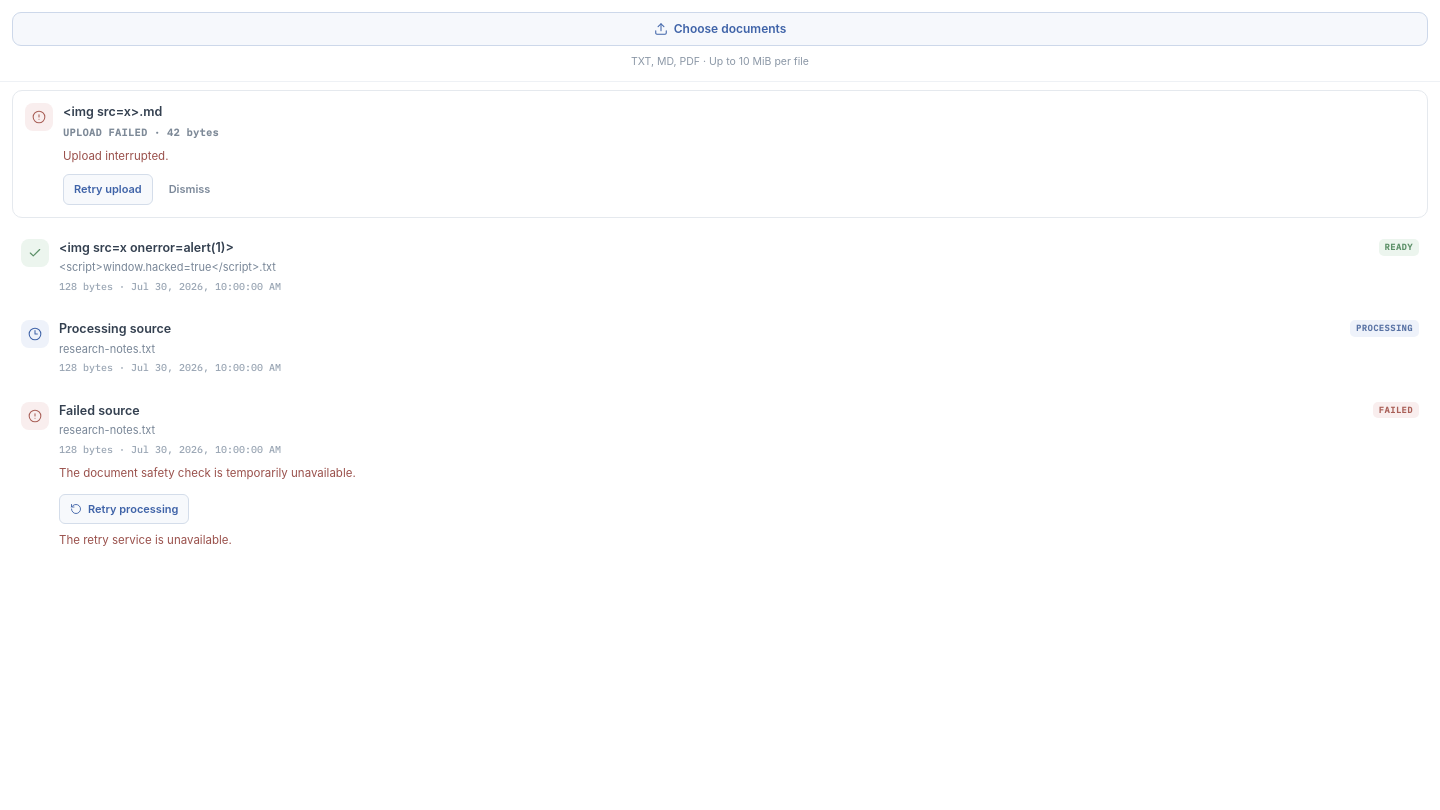
DocumentsPanel › renders hostile names and processed text inertly while preserving accessible status
Expected: the list named "Project documents" is shown, left=8, top=226, right=1432, bottom=562
Expected: the text "<img src=x onerror=alert(1)>" is shown, left=59, top=240, right=234, bottom=255
Click the button with aria-label "Inspect document: <img src=x onerror=alert(1)>": [146, 247] box left=9, top=227, right=1431, bottom=306
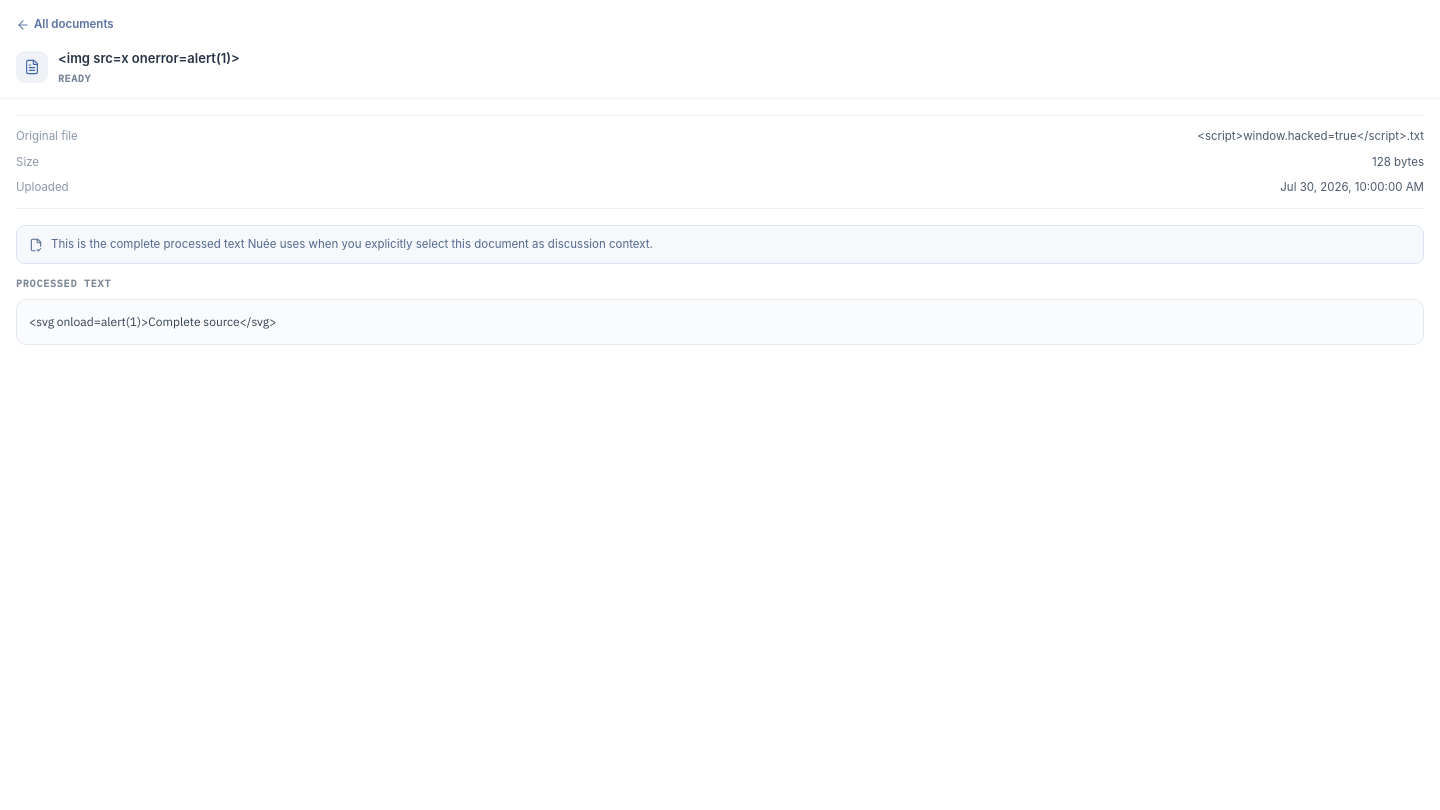
Expected: the text "<svg onload=alert(1)>Complete source</svg>" is shown, left=16, top=299, right=1424, bottom=345
Expected: the text "complete processed text Nuée uses" is shown, left=51, top=237, right=653, bottom=251
